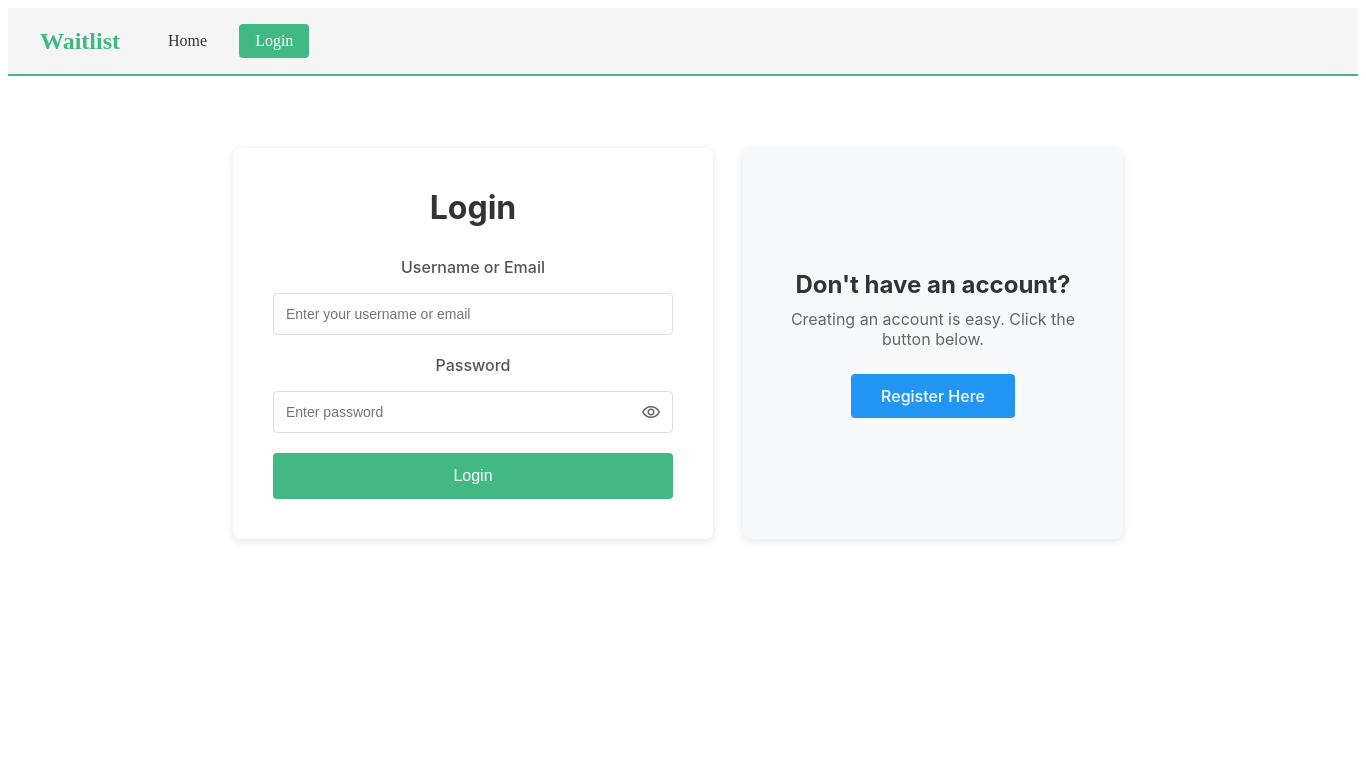
Scenario: Login page › toggles password visibility
In the password field labelled "Password": (473, 412) top-left (273, 391), bottom-right (673, 433), type "secret"
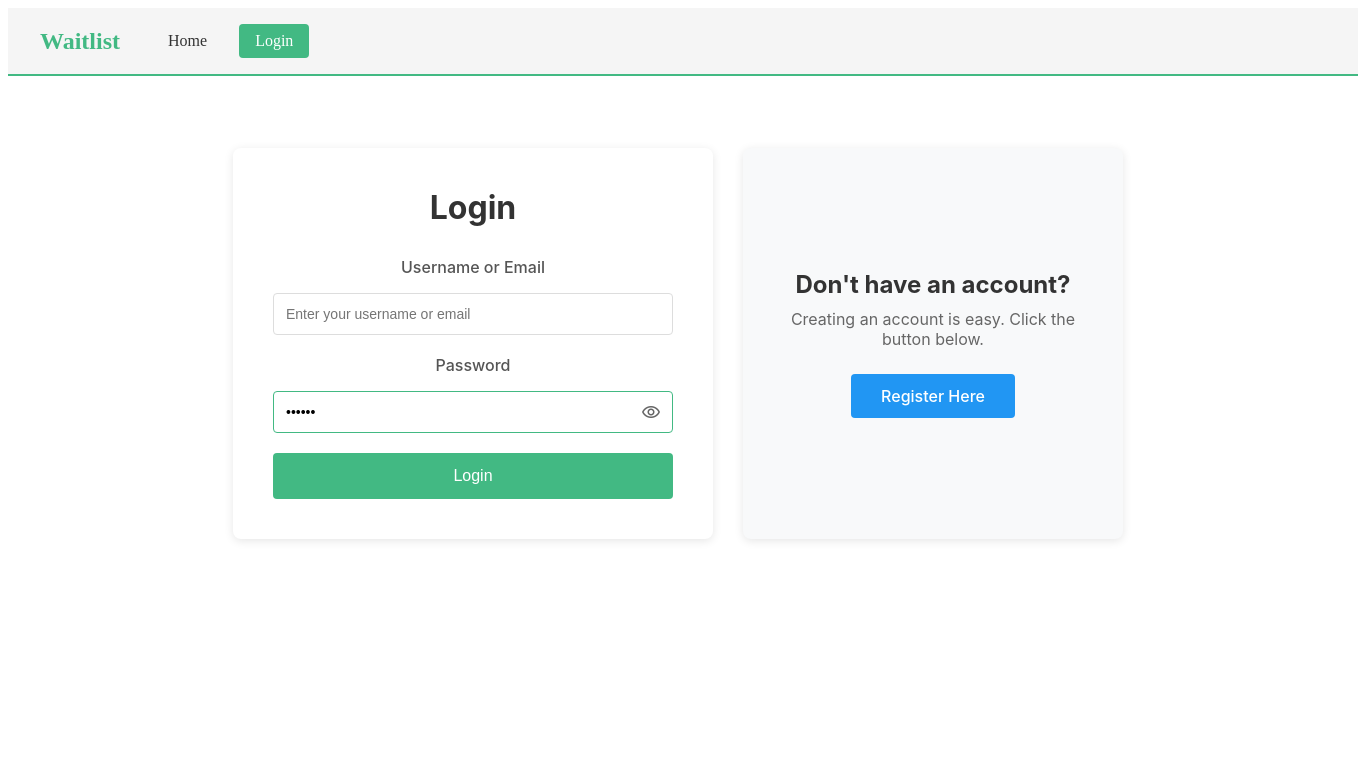
Click the button named "Show password": click(651, 412) top-left (637, 398), bottom-right (665, 426)
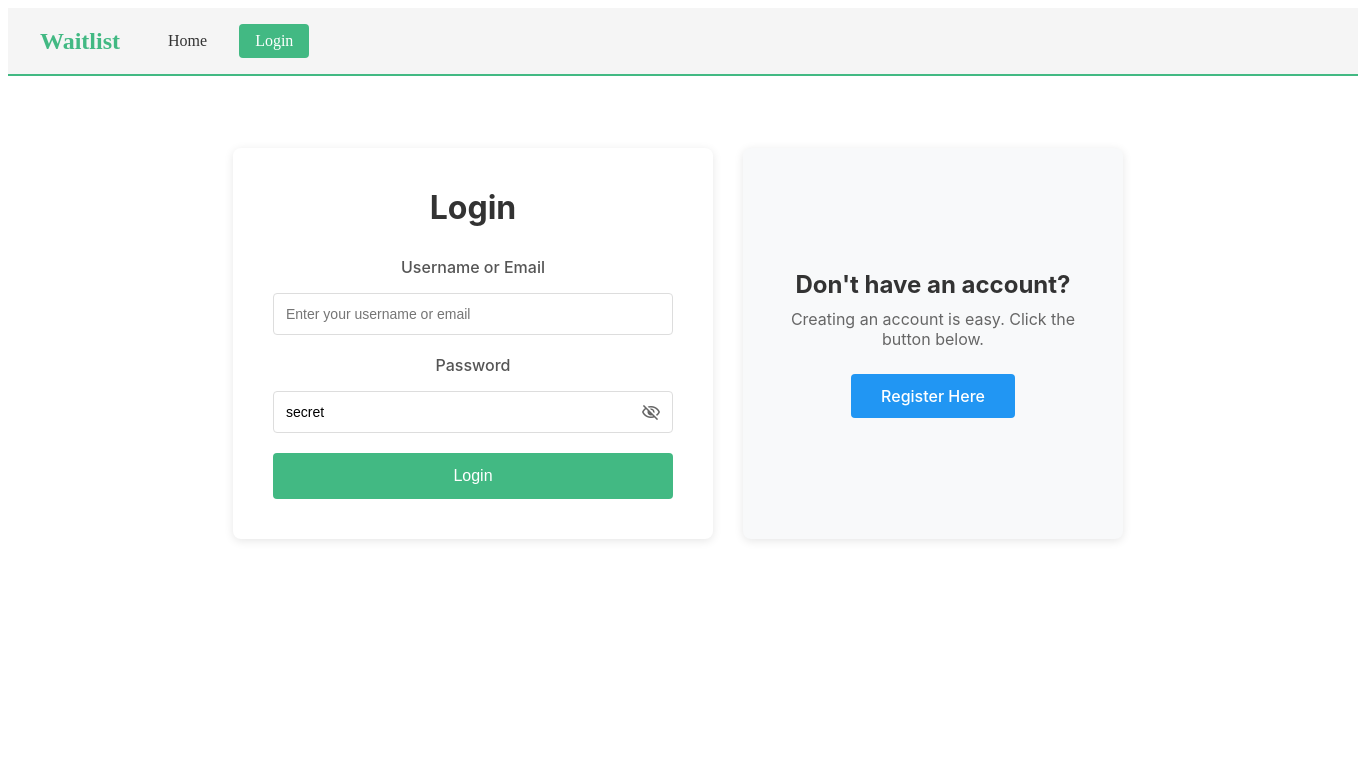
Result: the field labelled "Password" shows its text at top-left (273, 391), bottom-right (673, 433)
Click the button named "Hide password": click(651, 412) top-left (637, 398), bottom-right (665, 426)
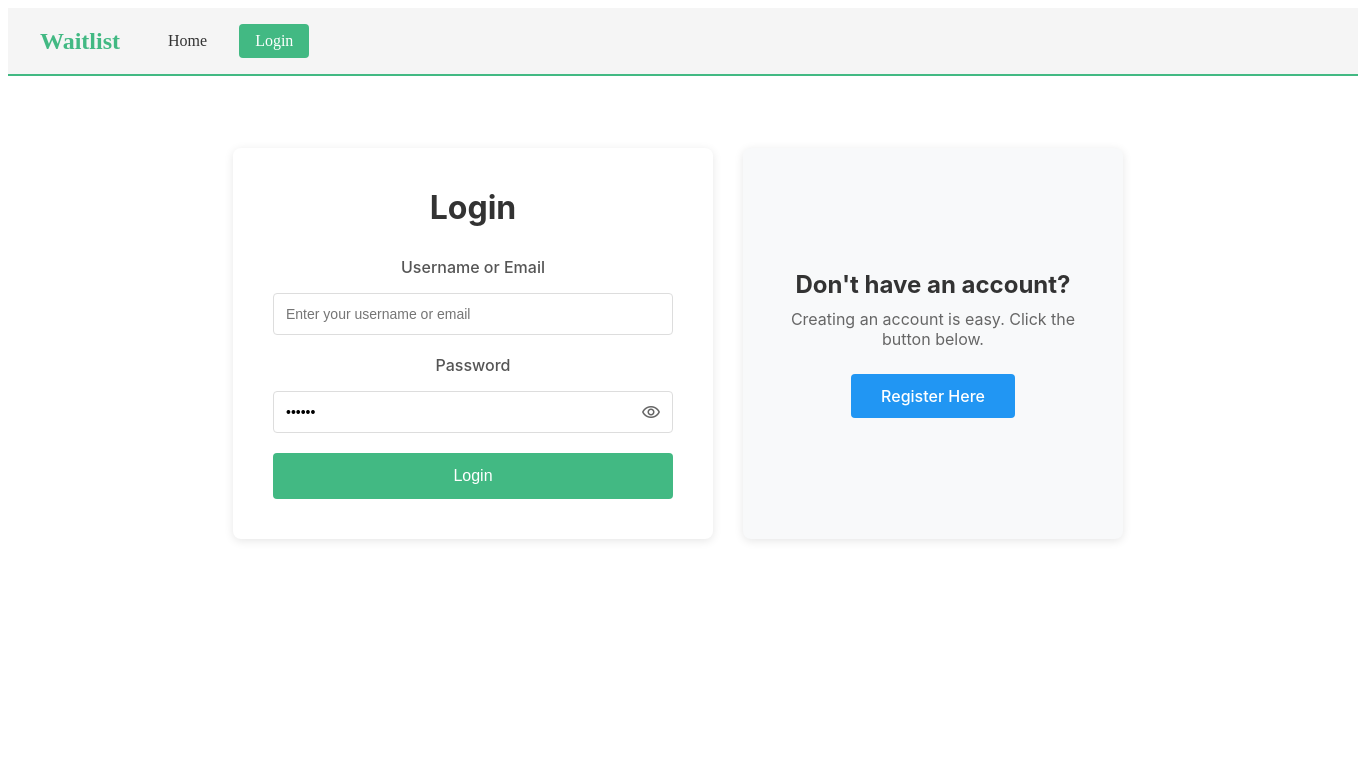
Result: the password field labelled "Password" hides its text at top-left (273, 391), bottom-right (673, 433)
